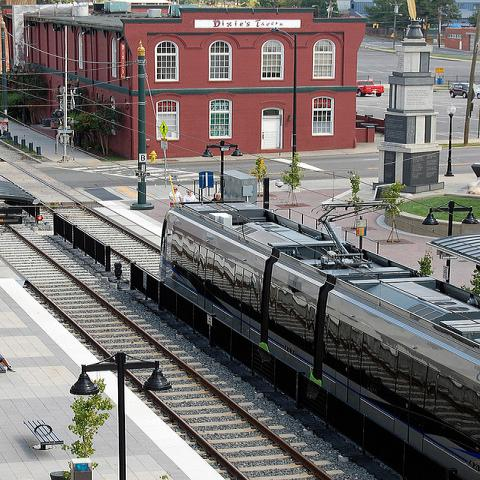car: (449, 82, 479, 100)
truck: (356, 80, 384, 97)
